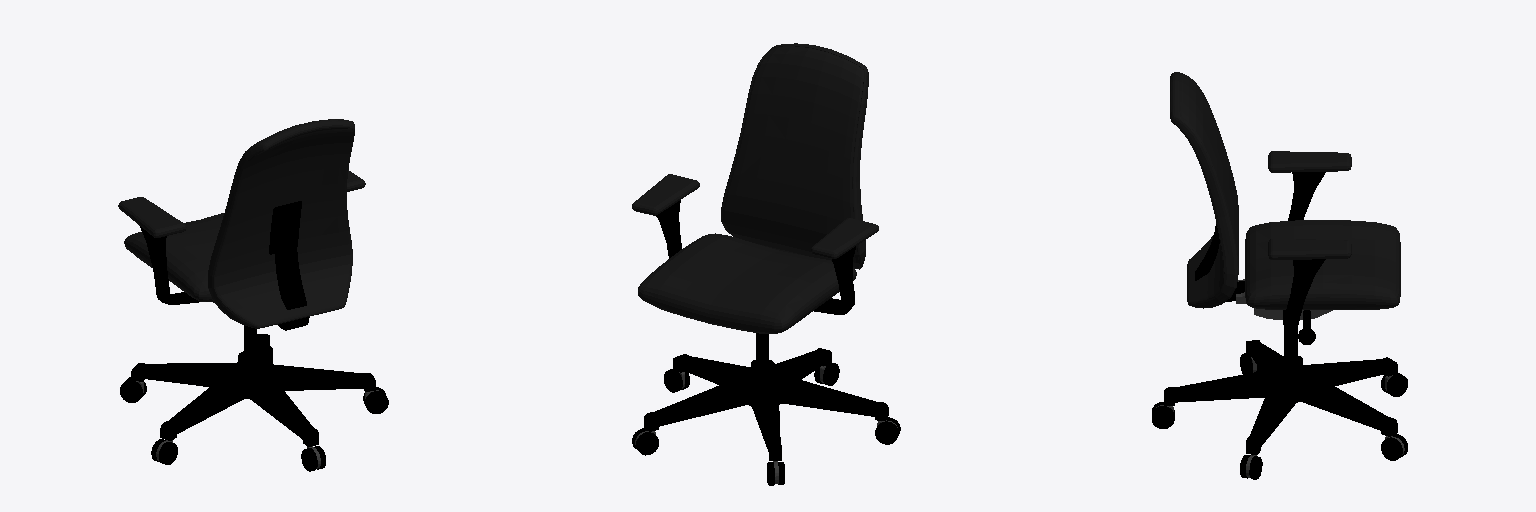
The picture shows the model from 3 angles: view 1: azimuth 30°, elevation 25°; view 2: azimuth 150°, elevation 25°; view 3: azimuth 270°, elevation 25°; orthographic projection.
Parts seen in each view (by area): view 1: Office_Chair_V3; view 2: Office_Chair_V3; view 3: Office_Chair_V3.
Boxes of the visible parts, x1,y1,x2,y2 form: Office_Chair_V3: [118, 119, 388, 471]; Office_Chair_V3: [632, 43, 900, 485]; Office_Chair_V3: [1152, 72, 1407, 479].
Bounding box in the file's own units: 0.8946 × 1.24 × 0.85.
Materials: 1 (1 with a texture image).